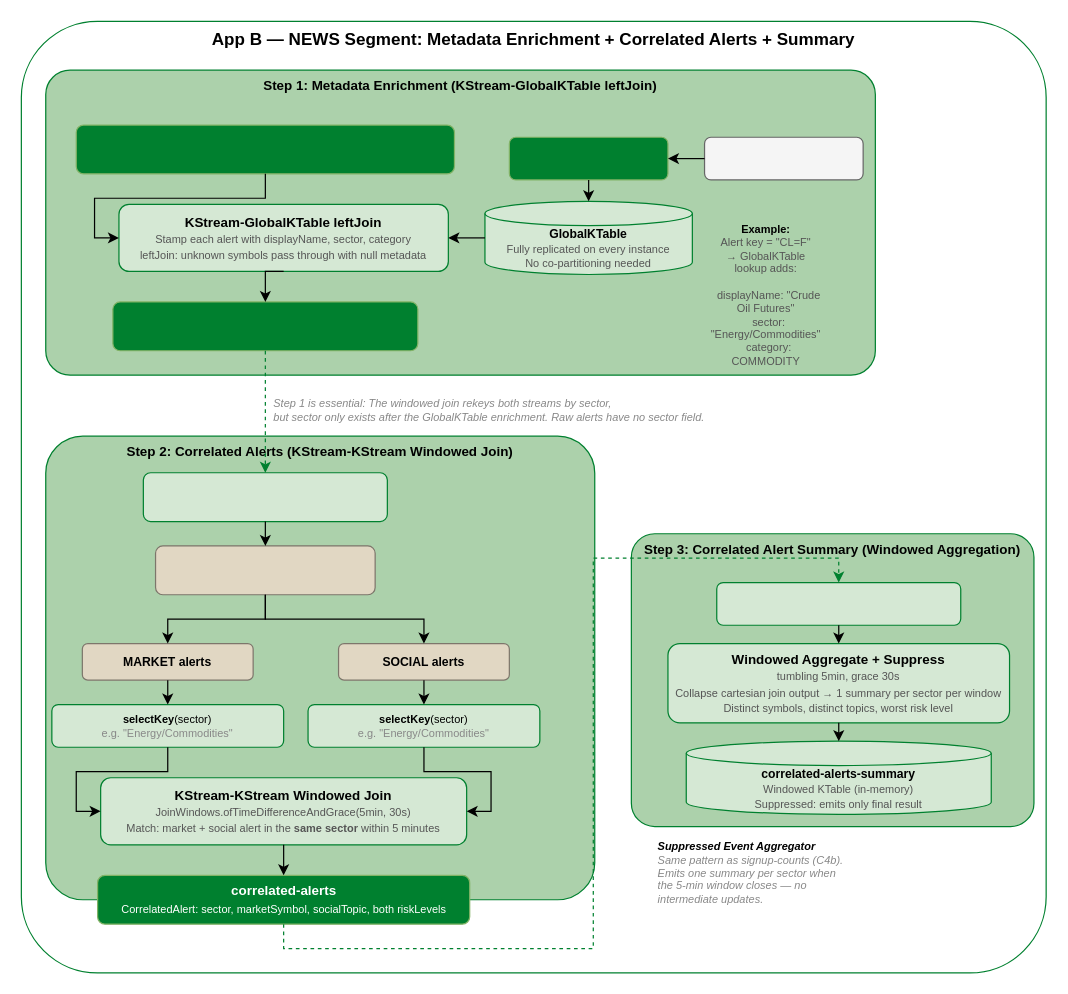
Some shapes in this 1068 by 994 pixel diagram are drawn without their labels. The shapes that lost their labels are listed below. From the top down, each one's centre as x and y in pixels, then its label:
pixel 264 149: alerts-enriched from App A · keyed by symbol/topic
pixel 588 158: symbol-metadata compacted topic
pixel 783 158: symbol-metadata.json seeded on startup
pixel 265 326: alerts-with-metadata EnrichedAlert now has: sector, displayName, category
pixel 264 497: Filter Drop alerts with null sector (unknown symbols)
pixel 264 570: Split by source MARKET vs SOCIAL
pixel 838 603: groupByKey already keyed by sector from C6
